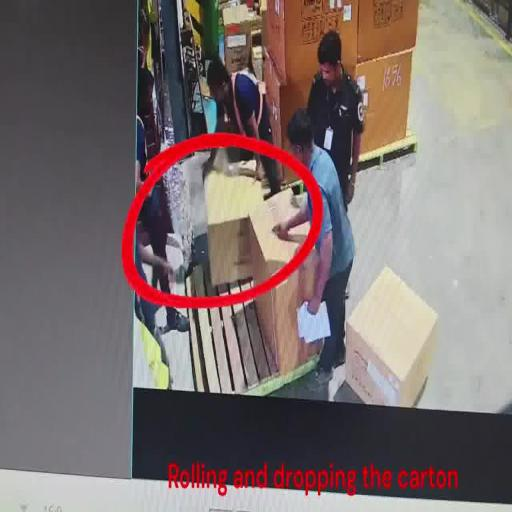carton: (246, 187, 329, 374), (346, 266, 438, 410), (260, 1, 356, 82), (204, 169, 266, 288), (350, 48, 414, 158), (262, 61, 312, 171), (354, 0, 420, 66)
pallet: (184, 267, 321, 399), (356, 136, 418, 169)
person: (272, 105, 355, 384), (134, 68, 188, 386), (202, 59, 282, 198), (304, 29, 364, 213)
